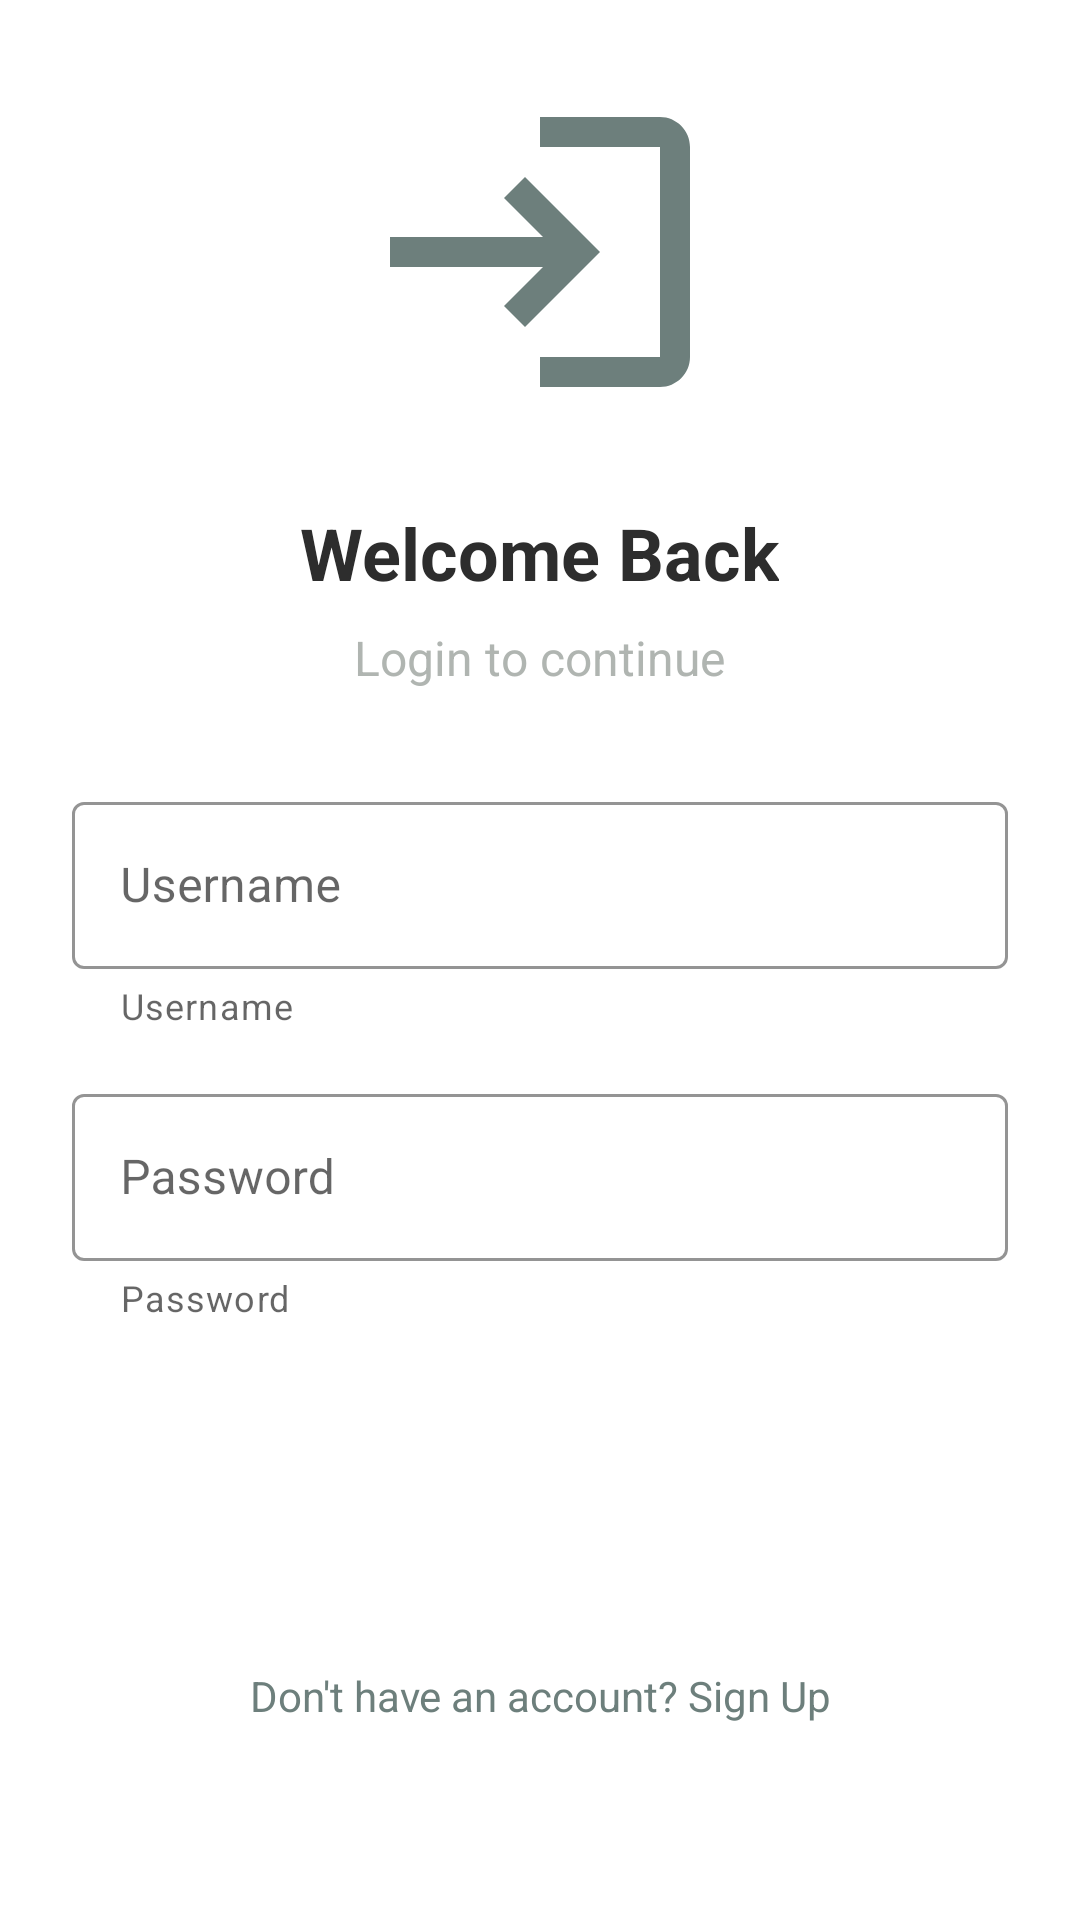

Icon bounding boxes for this 1080px x 1920px phone screenshot, format bbox=[x1, y1, x2, y2]:
login: bbox=[390, 117, 690, 387]
